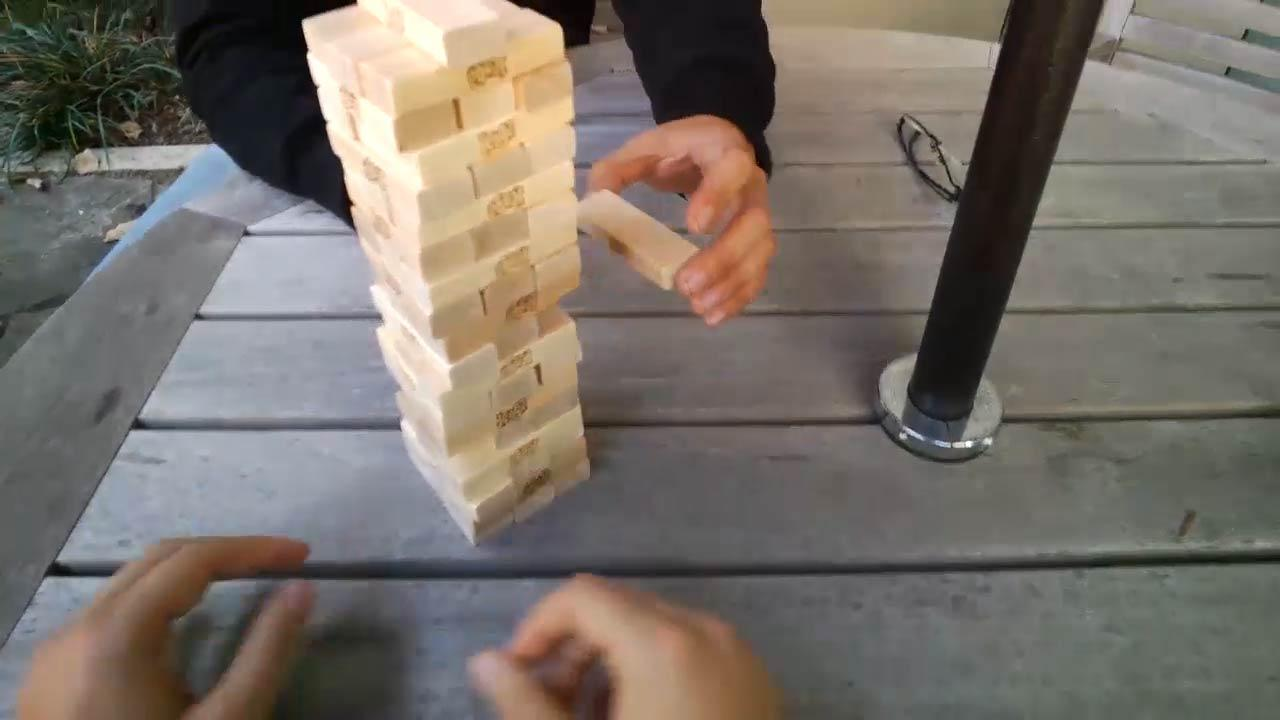hand: (13, 530, 317, 718), (465, 568, 804, 720), (588, 114, 776, 328)
